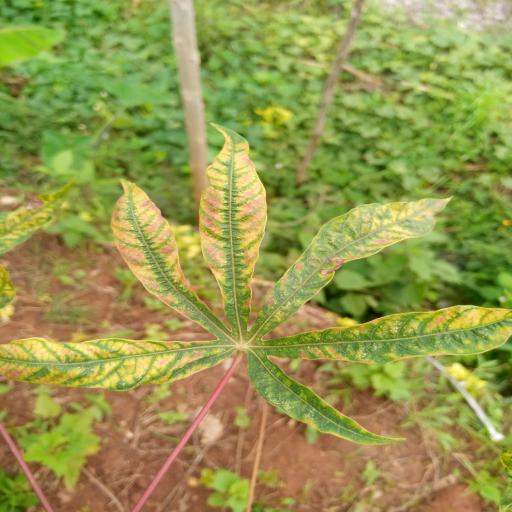Cassava_Mosaic: (3, 122, 512, 446)
